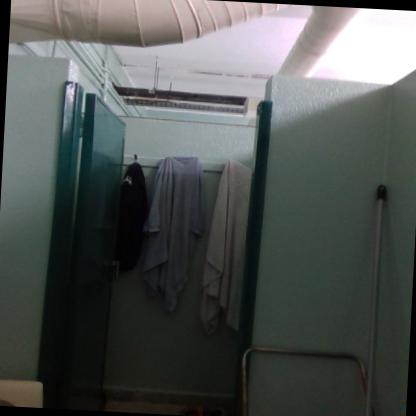open: (38, 70, 301, 415)
